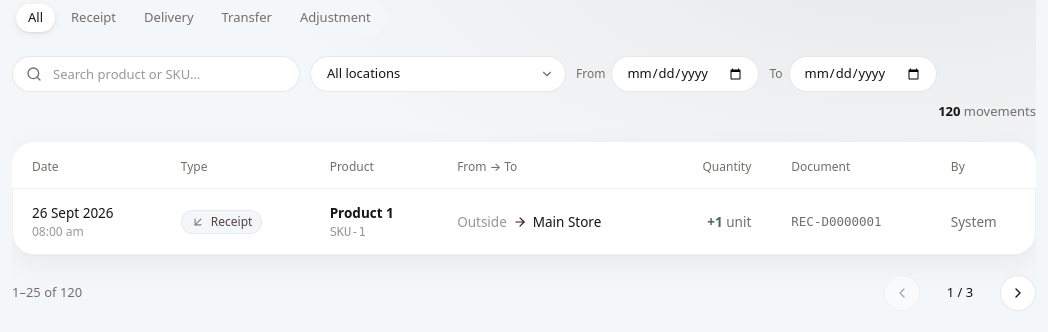
Scenario: Move History paging (audit P1) › pages through the whole ledger instead of stopping at the first 50
Click the button named "Next page": click(1018, 293) [1000, 275, 1036, 311]
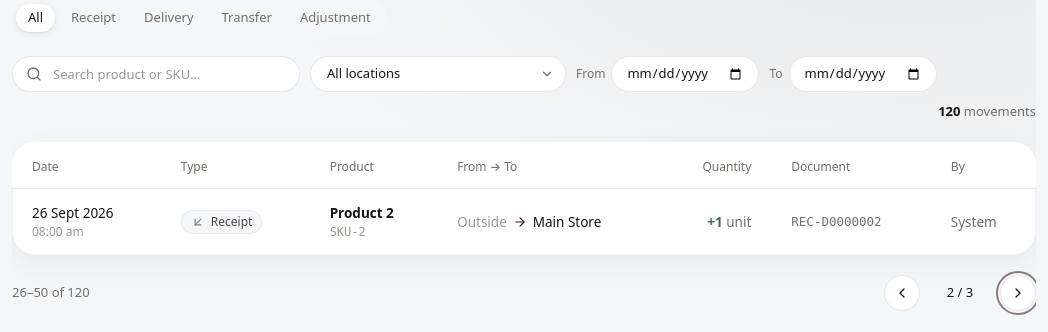
Check: the text "Product 2" is shown, box [330, 204, 394, 222]
